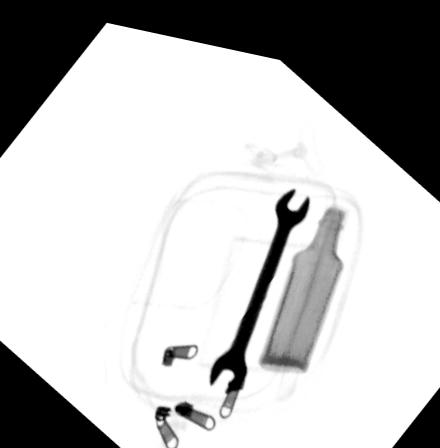Wrench: (207, 173, 311, 386)
